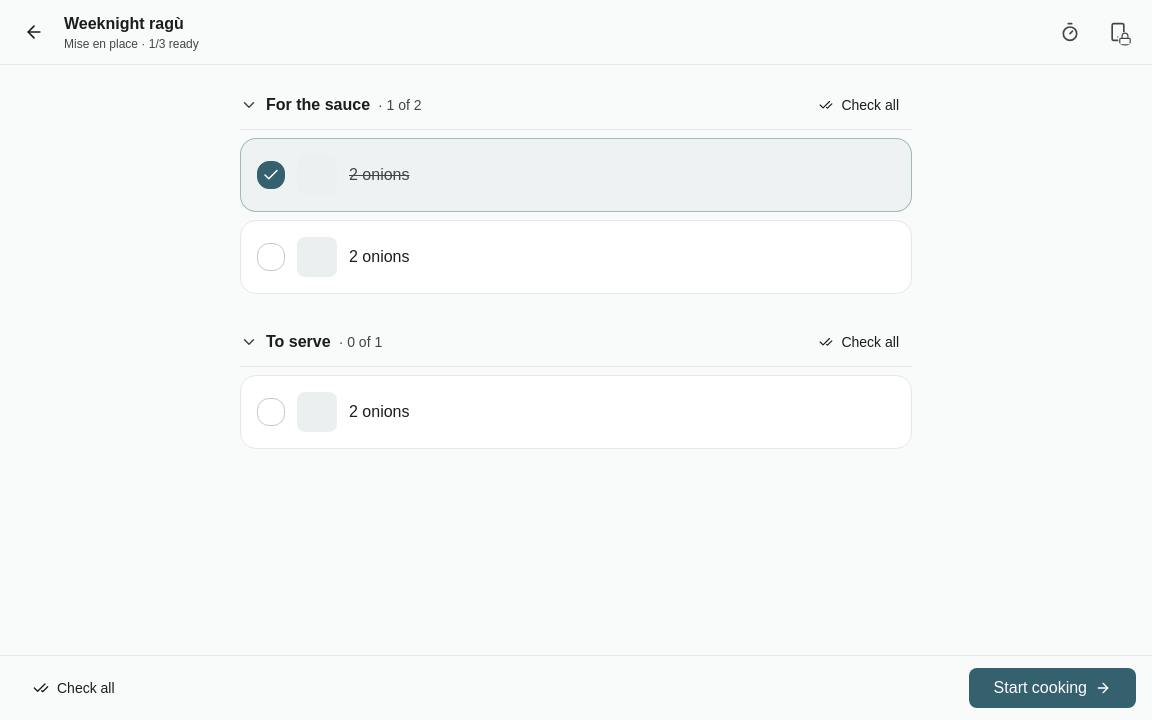
Test: CookModePage — a gathered section folding itself away › folds a section once its last ingredient is ticked
This screenshot has width=1152, height=720.
Click the button with test id "cook-mise-row" at (317, 257), box left=240, top=220, right=912, bottom=294
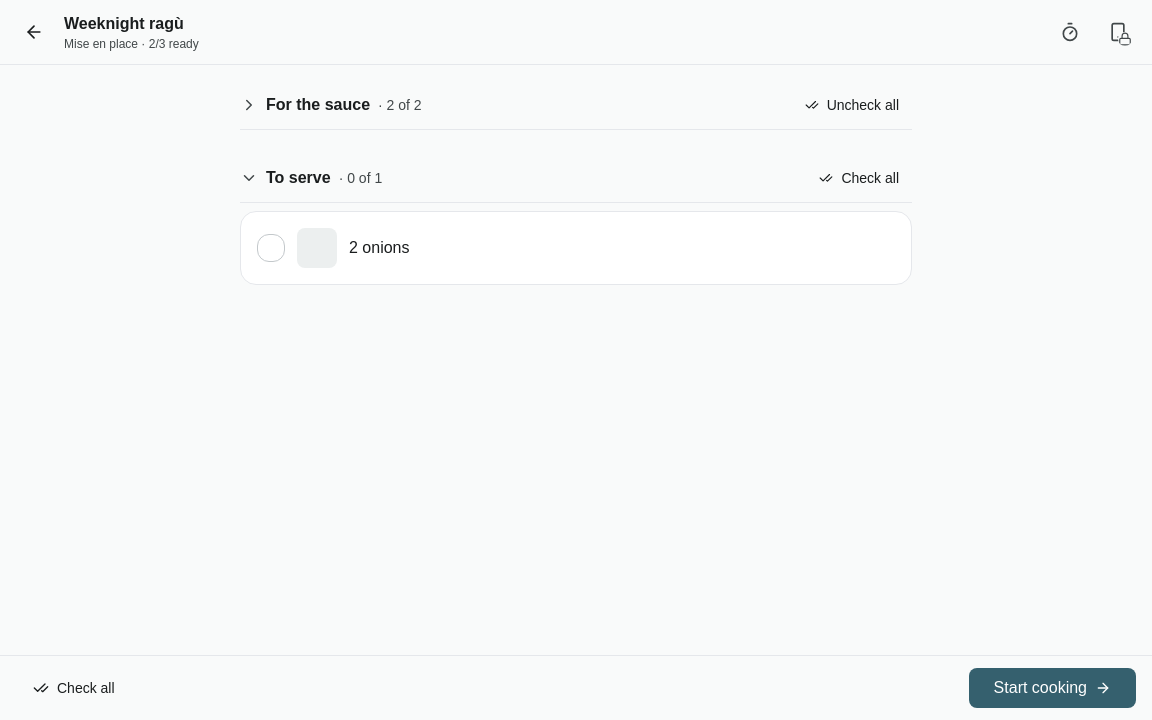
Expected: the number of buttons with test id "cook-mise-row" is 1, left=240, top=211, right=912, bottom=285
Expected: the button with test id "cook-mise-group-toggle" shows "2 of 2", left=240, top=93, right=784, bottom=117
